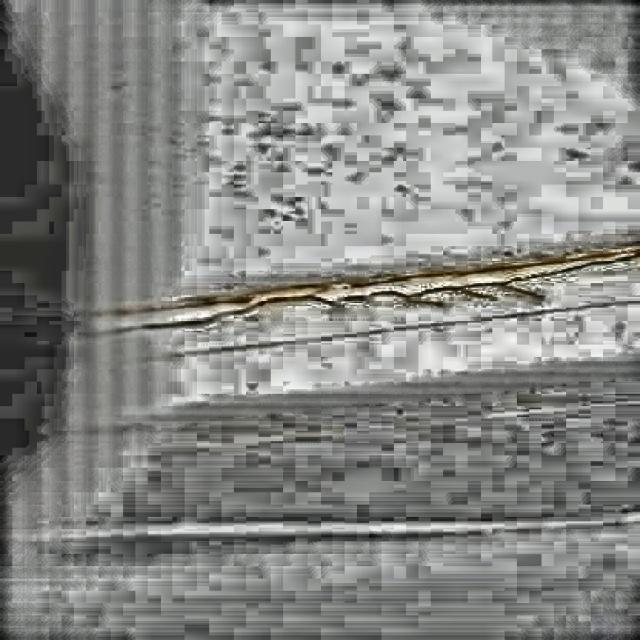crack: (103, 312, 226, 332), (449, 283, 549, 302), (230, 297, 341, 314), (344, 293, 444, 307)
